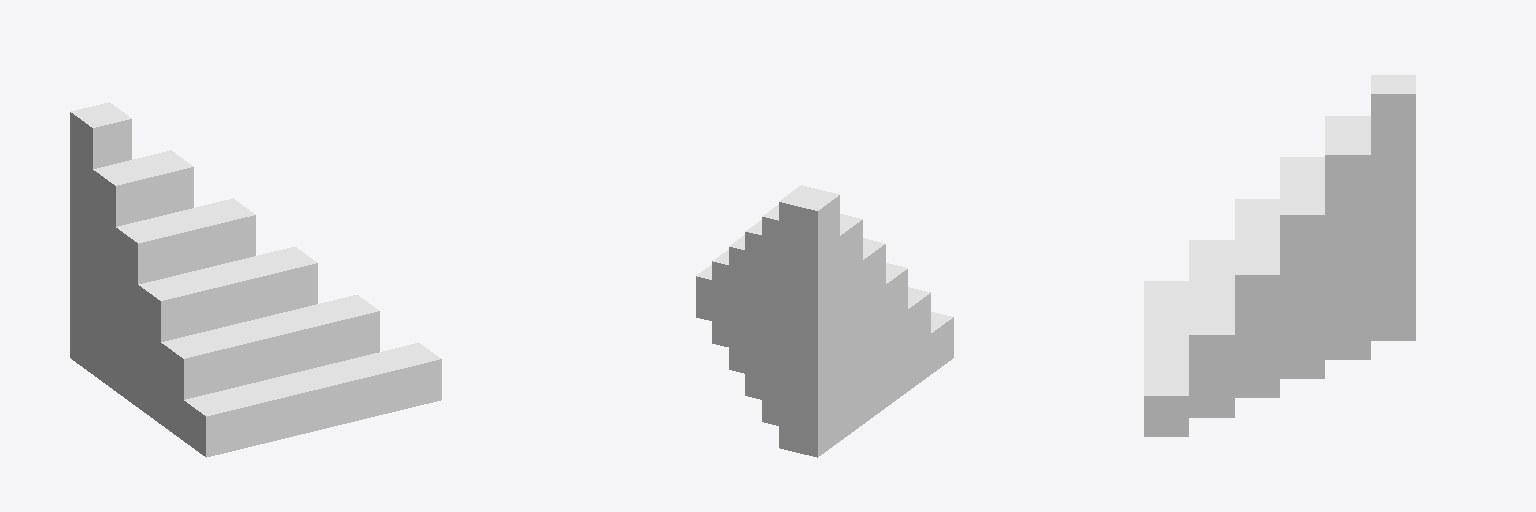
Rendered from UninkableTriangleSlopeB.obj.
3 views of the same model, side by side, from view 1: azimuth 30°, elevation 25°; view 2: azimuth 150°, elevation 25°; view 3: azimuth 270°, elevation 25° (orthographic).
Parts seen in each view (by area): view 1: object 1; view 2: object 1; view 3: object 1.
Part boxes in pixels (left/top/right/bottom): object 1: left=70, top=102, right=441, bottom=457; object 1: left=696, top=185, right=953, bottom=457; object 1: left=1144, top=75, right=1415, bottom=436.
Size of the model in its own units: 0.6 by 0.6 by 0.6.